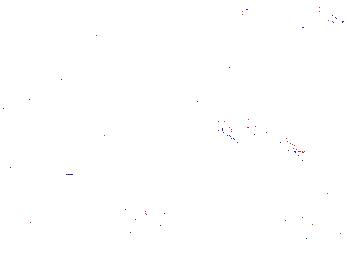glassfish: (211, 117, 316, 176)
red belly glassfish: (224, 33, 263, 51)
redtail glassfish: (293, 4, 346, 40), (233, 1, 303, 15)
